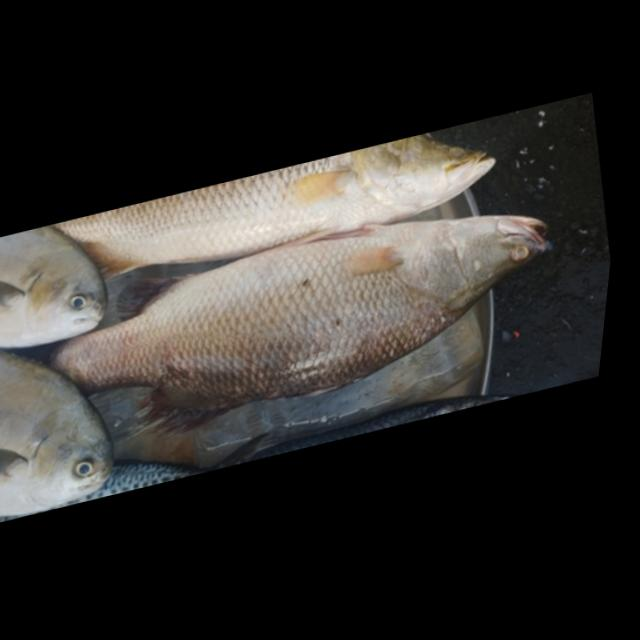Seabass: (16, 174, 580, 464), (29, 115, 509, 307)
